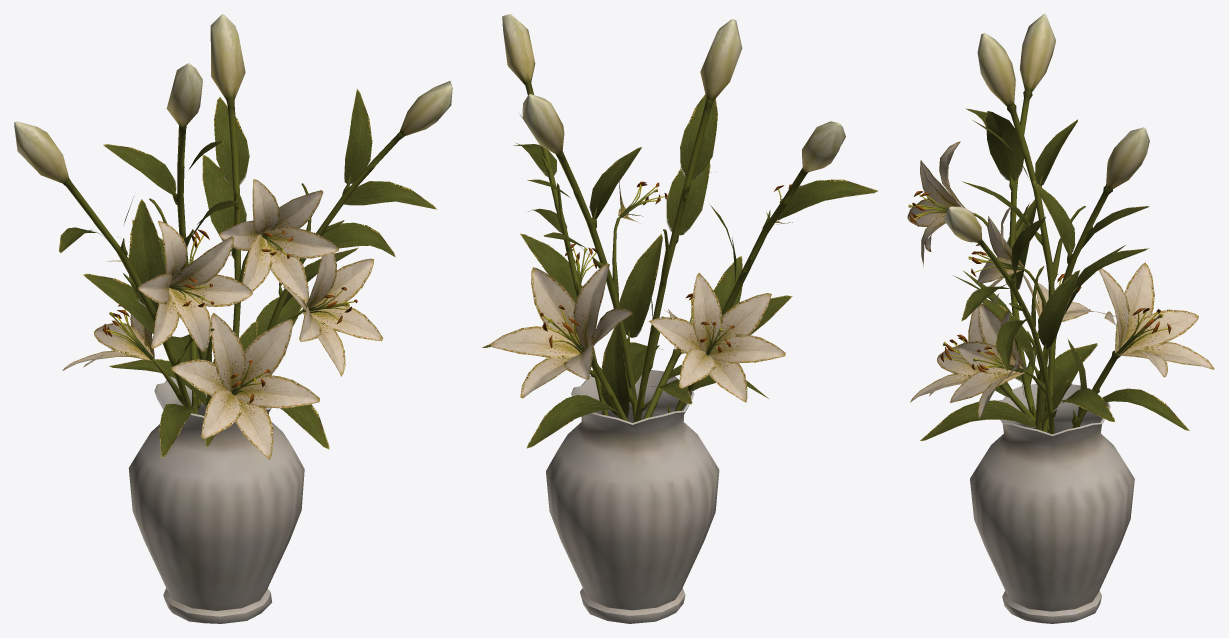
The model's file is SM_lilies_vase_5c5fe2.glb.
The picture shows the model from 3 angles, left to right: view 1: azimuth 30°, elevation 25°; view 2: azimuth 150°, elevation 25°; view 3: azimuth 270°, elevation 25°; orthographic projection. The views are drawn at different scales.
Size of the model in its own units: 0.5644 by 0.8053 by 0.4138.
Materials: 1 (1 with a texture image).
